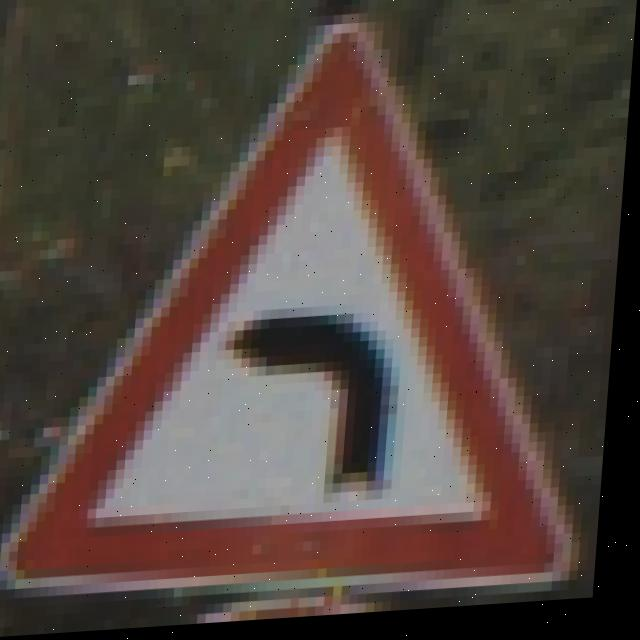left_turn: (0, 17, 619, 629)
